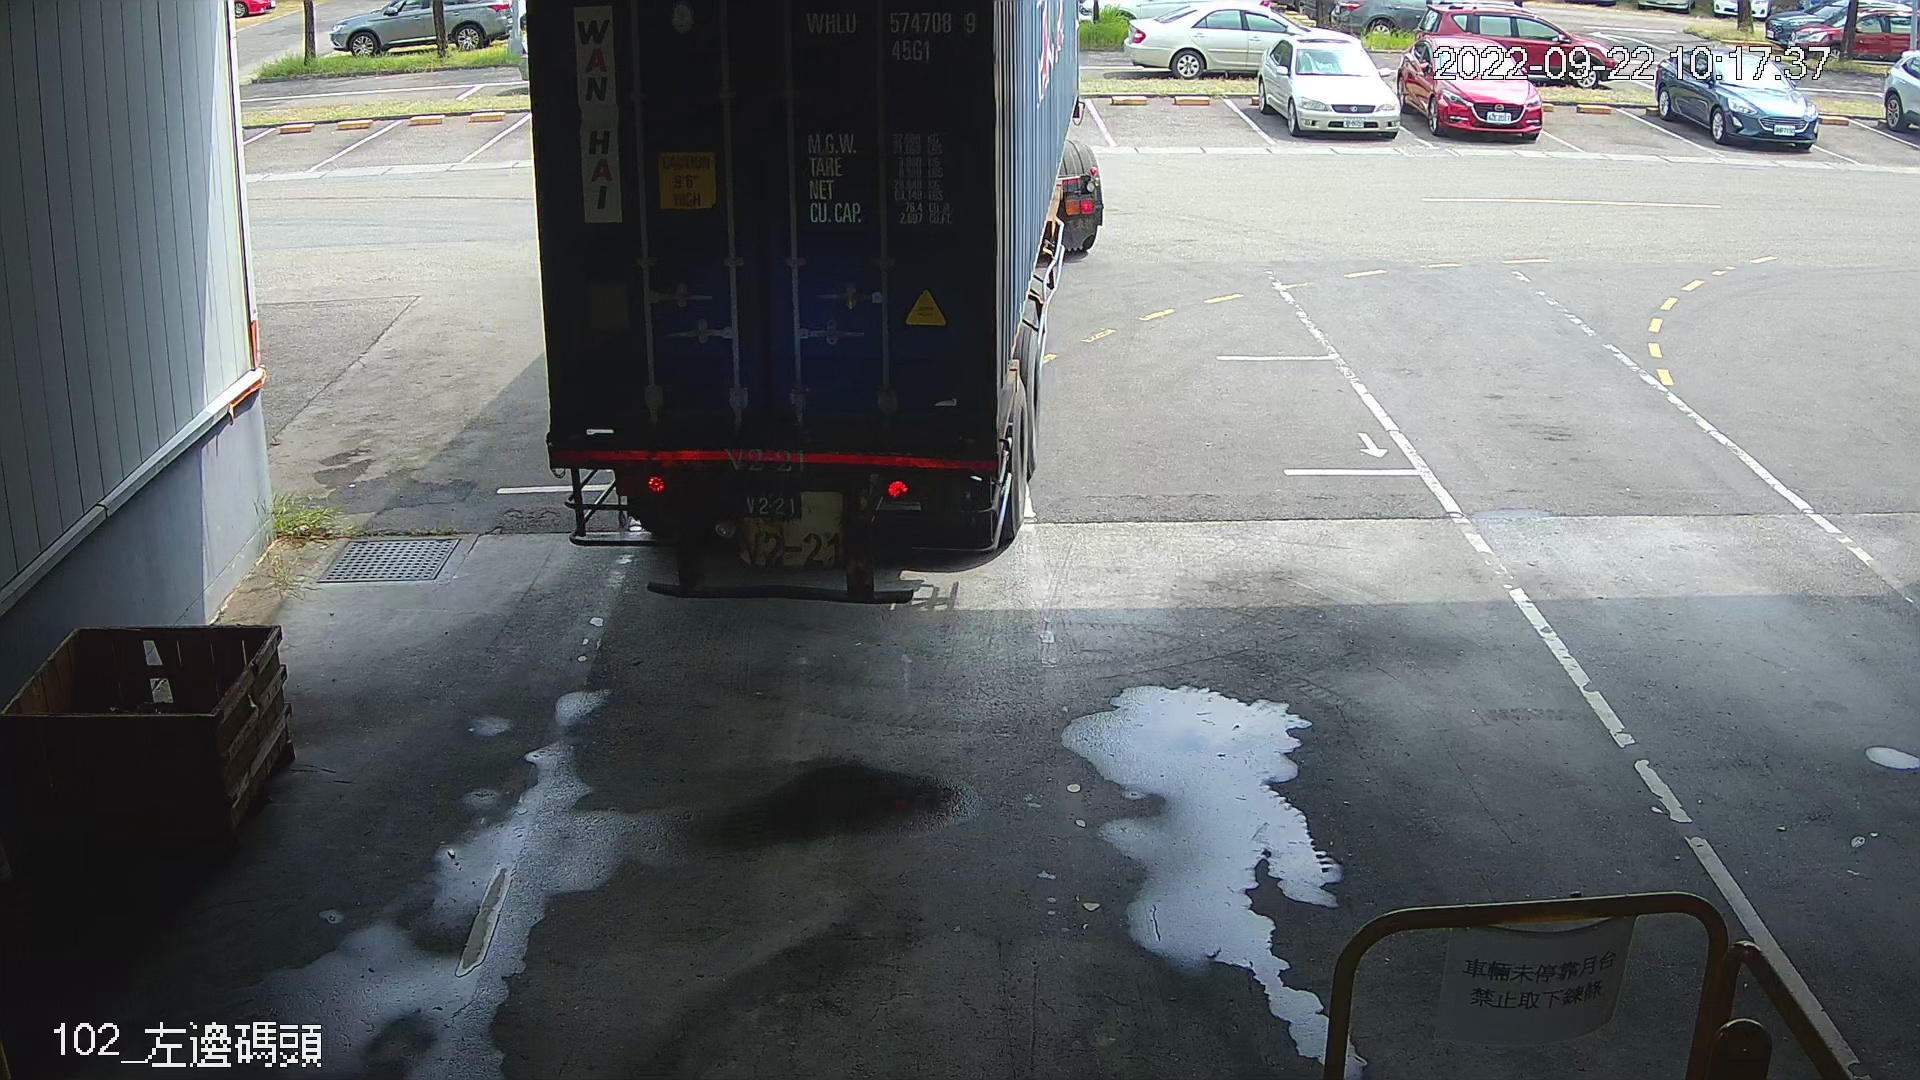container: (800, 3, 986, 69)
